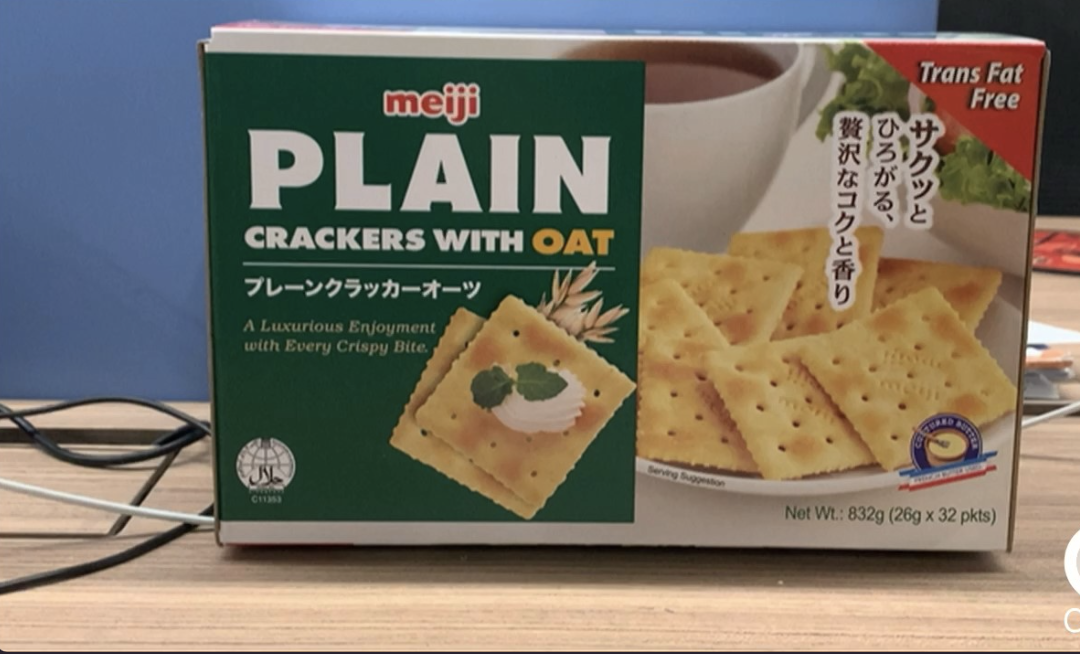crackers_550g: (224, 54, 1014, 537)
